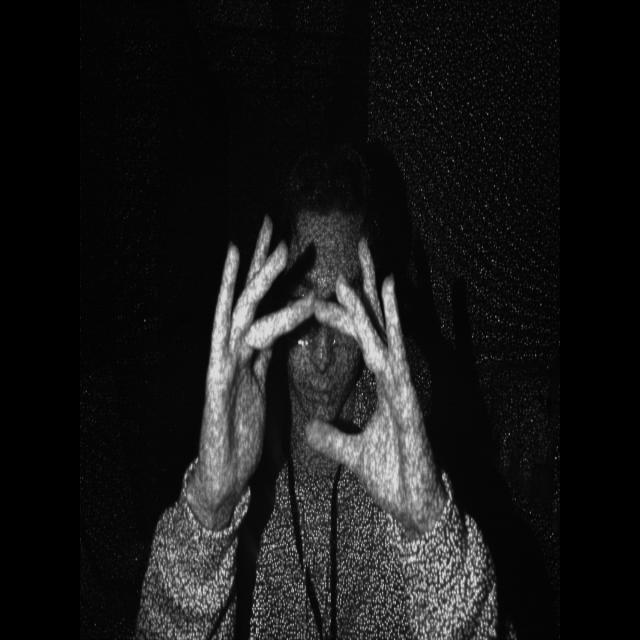REACH: (204, 201, 431, 529)
